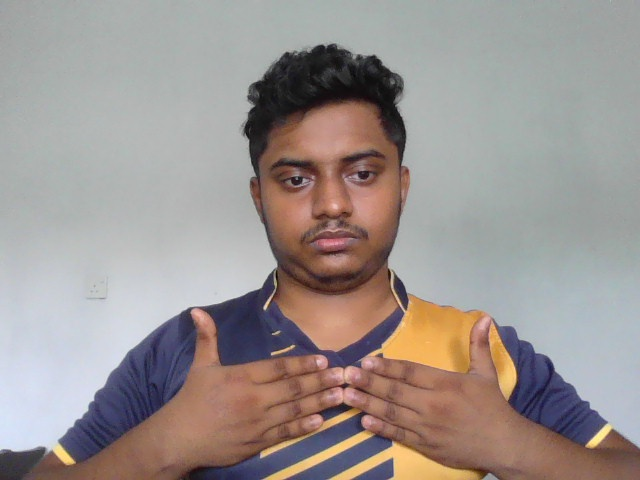Thank You: (168, 306, 503, 473)
